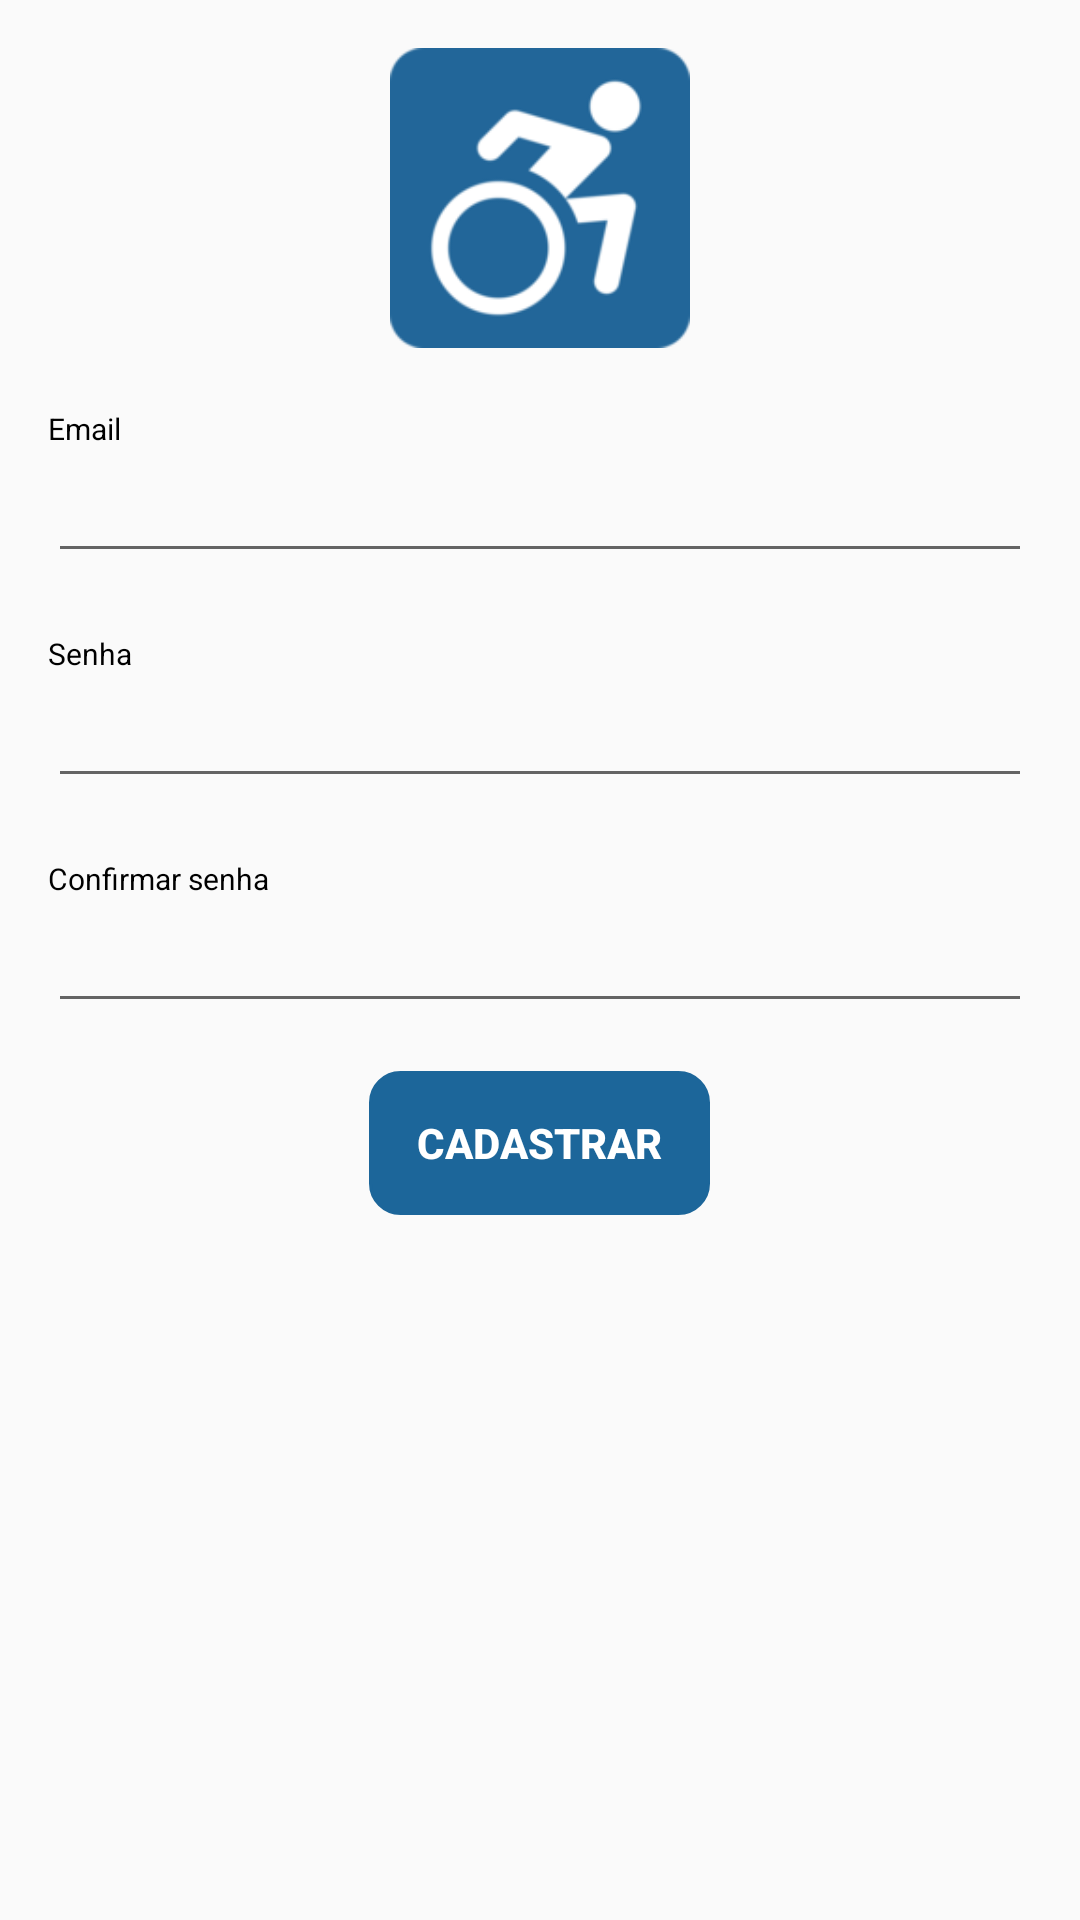

Point at icon controls on the screen. Image size 1080*1920, points as [x,y].
wheelchair main: [540,198]
